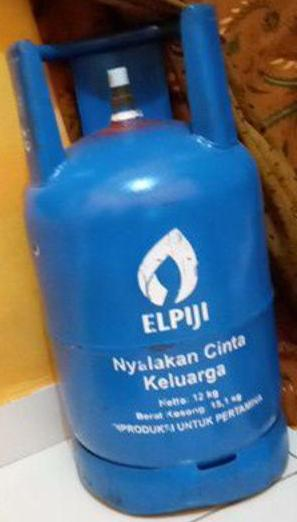cylinder: (1, 1, 297, 522)
